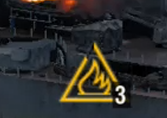3fire: (54, 68, 131, 108)
